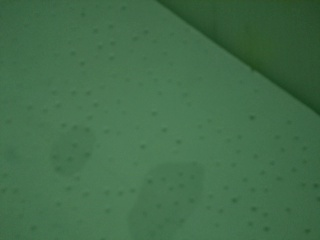Water_detected: (127, 171, 186, 237), (47, 126, 92, 171)
